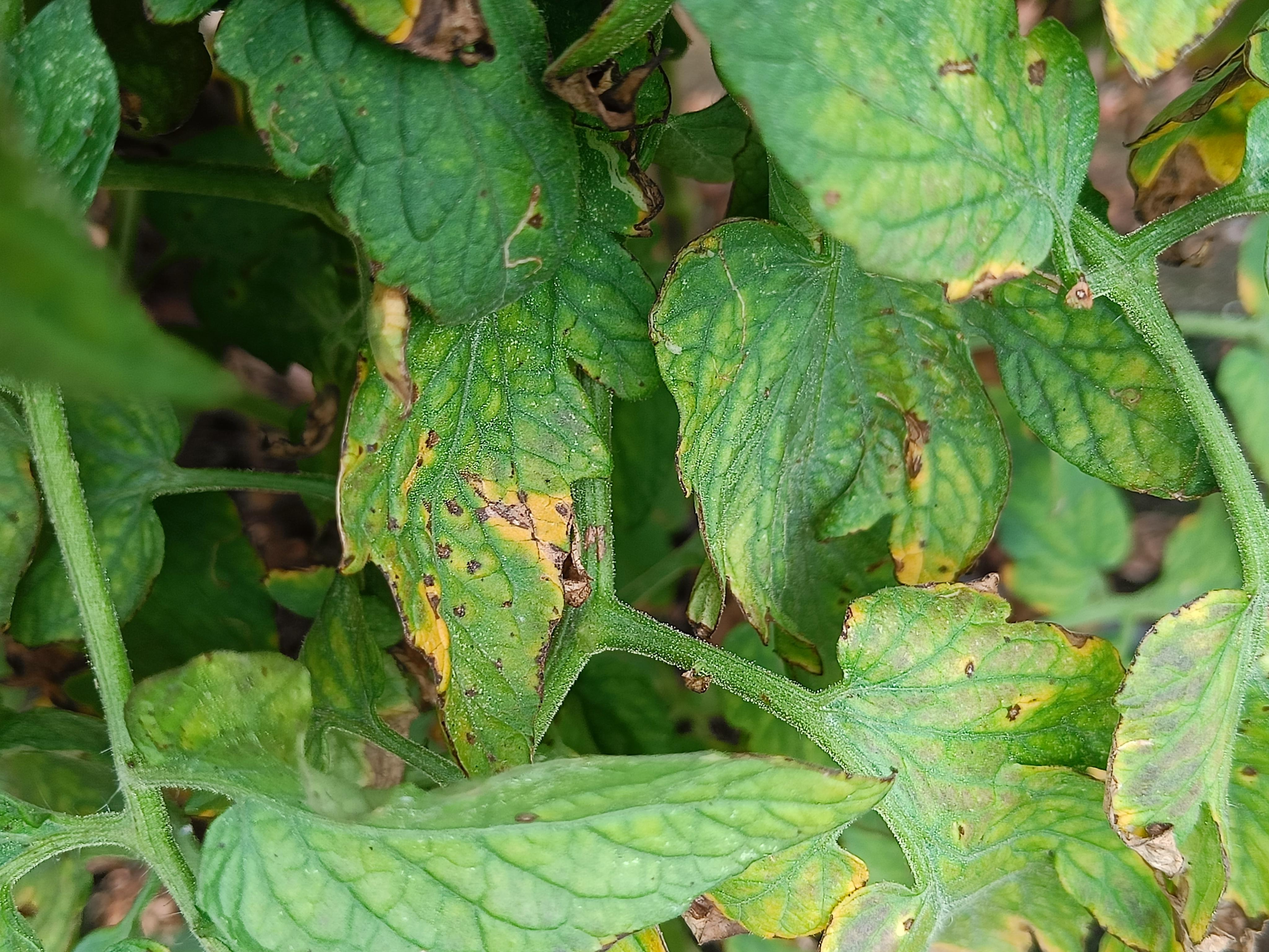Early Blight: (666, 0, 1106, 307), (331, 326, 619, 781), (828, 567, 1116, 951)
